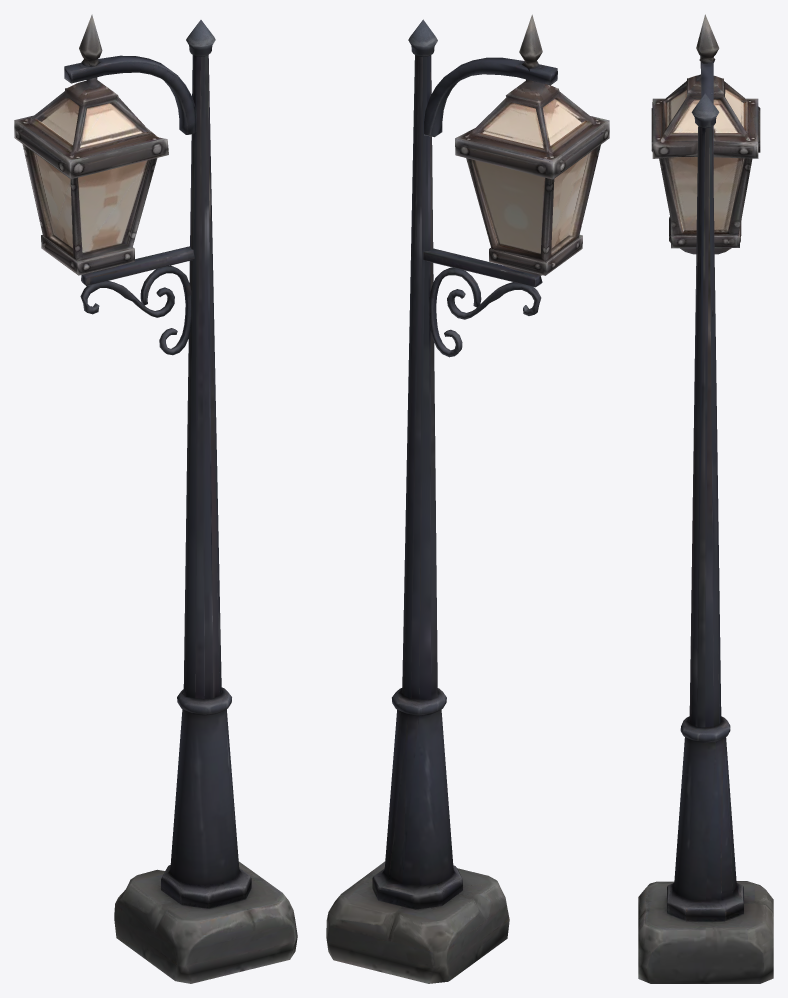
The model's file is lamp-lantern.glb.
3 renders of one model, left to right at view 1: azimuth 30°, elevation 25°; view 2: azimuth 150°, elevation 25°; view 3: azimuth 270°, elevation 25°, orthographic. The views are drawn at different scales.
Bounding box in the file's own units: 0.2358 × 0.9526 × 0.1313.
Materials: 1 (1 with a texture image).
